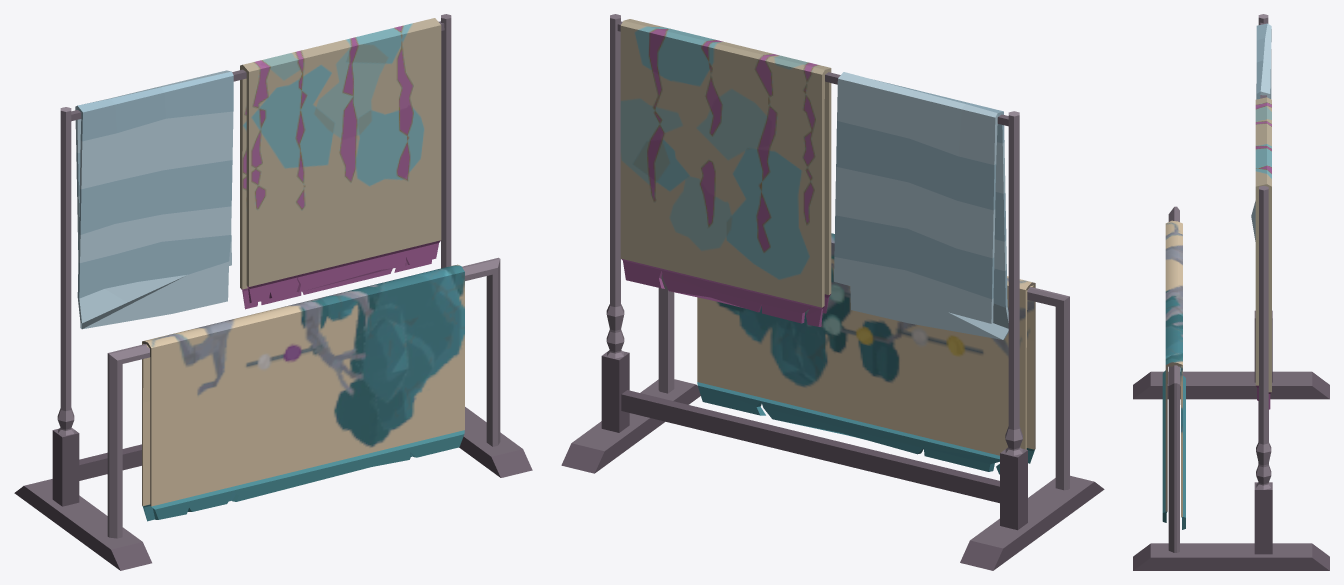
File: SM_Prop_Clothes_Rack_01_Preset_03.fbx
The picture shows the model from 3 angles, left to right: view 1: azimuth 30°, elevation 25°; view 2: azimuth 150°, elevation 25°; view 3: azimuth 270°, elevation 25°; orthographic projection. The views are drawn at different scales.
Visible parts, largest first — view 1: SM_Prop_Clothes_Rack_01_Preset_03; view 2: SM_Prop_Clothes_Rack_01_Preset_03; view 3: SM_Prop_Clothes_Rack_01_Preset_03.
Boxes of the visible parts, bbox=[...] form: SM_Prop_Clothes_Rack_01_Preset_03: bbox=[14, 14, 532, 570]; SM_Prop_Clothes_Rack_01_Preset_03: bbox=[561, 14, 1104, 570]; SM_Prop_Clothes_Rack_01_Preset_03: bbox=[1133, 14, 1329, 570].
Bounding box in the file's own units: 2.17 × 2.04 × 0.9692.
1 material, 1 textured.
